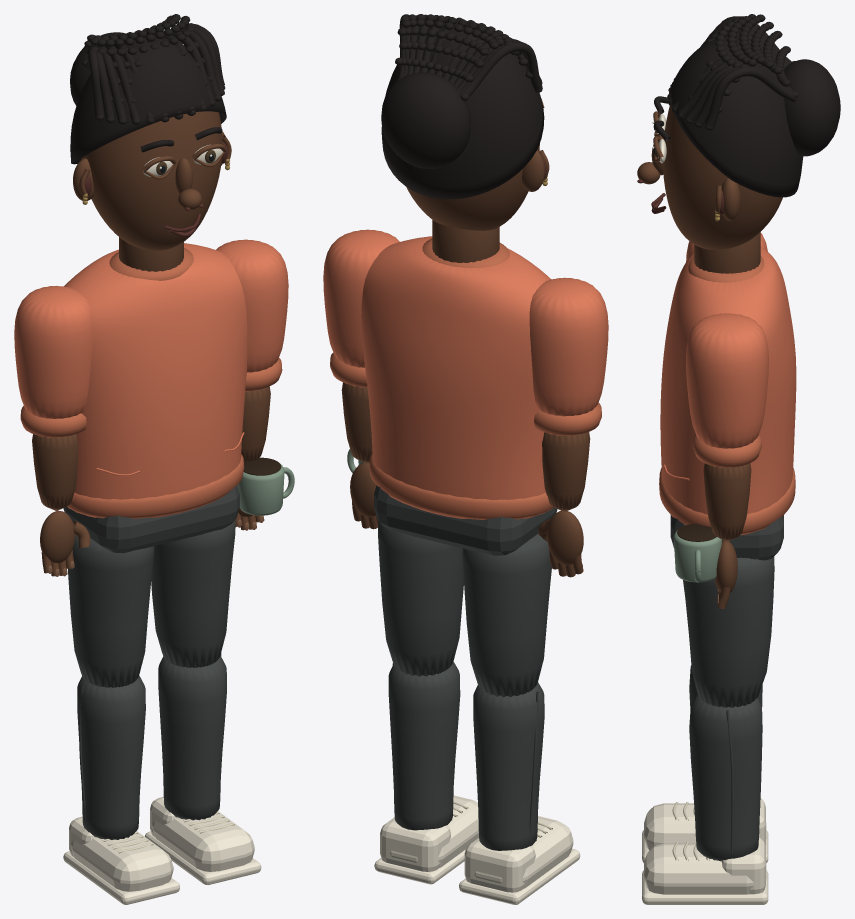
Rendered from june.glb.
The picture shows the model from 3 angles, left to right: view 1: azimuth 30°, elevation 25°; view 2: azimuth 150°, elevation 25°; view 3: azimuth 270°, elevation 25°; orthographic projection. The views are drawn at different scales.
Parts seen in each view (by area): view 1: June_Sweater, June_Brow, June_Face, June_Upper trouserL, June_Lower trouserR, June_Lower trouserL, June_Upper trouserR, June_SleeveL, June_ShoeL, June_ShoeR, June_SleeveR, June_Pelvis (+8 smaller); view 2: June_Sweater, June_Brow, June_Upper trouserL, June_Upper trouserR, June_Lower trouserL, June_Lower trouserR, June_SleeveL, June_ShoeL, June_SleeveR, June_Pelvis, June_ShoeR, June_Hem (+8 smaller); view 3: June_Brow, June_Sweater, June_Lower trouserR, June_Upper trouserR, June_SleeveR, June_Face, June_ShoeR, June_Forearm skinR, June_Hem, June_ShoeL, June_Ceramic cup, June_Neck (+4 smaller).
Part boxes in pixels (bbox=[...]): June_Sweater: bbox=[64, 243, 247, 517]; June_Brow: bbox=[70, 14, 226, 164]; June_Face: bbox=[73, 111, 231, 250]; June_Upper trouserL: bbox=[68, 535, 154, 687]; June_Lower trouserR: bbox=[158, 653, 226, 820]; June_Lower trouserL: bbox=[77, 675, 145, 839]; June_Upper trouserR: bbox=[151, 519, 235, 667]; June_SleeveL: bbox=[14, 286, 93, 418]; June_ShoeL: bbox=[63, 816, 179, 904]; June_ShoeR: bbox=[145, 797, 261, 884]; June_SleeveR: bbox=[216, 239, 288, 372]; June_Pelvis: bbox=[63, 485, 239, 553]; June_Sweater: bbox=[361, 236, 550, 518]; June_Brow: bbox=[381, 14, 544, 199]; June_Upper trouserL: bbox=[462, 534, 551, 697]; June_Upper trouserR: bbox=[378, 521, 463, 676]; June_Lower trouserL: bbox=[473, 682, 544, 850]; June_Lower trouserR: bbox=[388, 661, 460, 830]; June_SleeveL: bbox=[529, 277, 608, 416]; June_ShoeL: bbox=[459, 816, 580, 904]; June_SleeveR: bbox=[323, 229, 399, 367]; June_Pelvis: bbox=[374, 485, 557, 555]; June_ShoeR: bbox=[374, 795, 478, 884]; June_Hem: bbox=[369, 238, 553, 519]; June_Brow: bbox=[654, 14, 840, 197]; June_Sweater: bbox=[660, 247, 796, 535]; June_Lower trouserR: bbox=[689, 694, 762, 861]; June_Upper trouserR: bbox=[683, 556, 774, 707]; June_SleeveR: bbox=[686, 313, 768, 448]; June_Face: bbox=[637, 106, 782, 249]; June_ShoeR: bbox=[642, 837, 768, 904]; June_Forearm skinR: bbox=[703, 463, 751, 541]; June_Hem: bbox=[659, 255, 795, 534]; June_ShoeL: bbox=[642, 798, 768, 862]; June_Ceramic cup: bbox=[673, 530, 721, 582]; June_Neck: bbox=[694, 232, 760, 273].
Bounding box in the file's own units: 0.6819 × 2.03 × 0.449.
